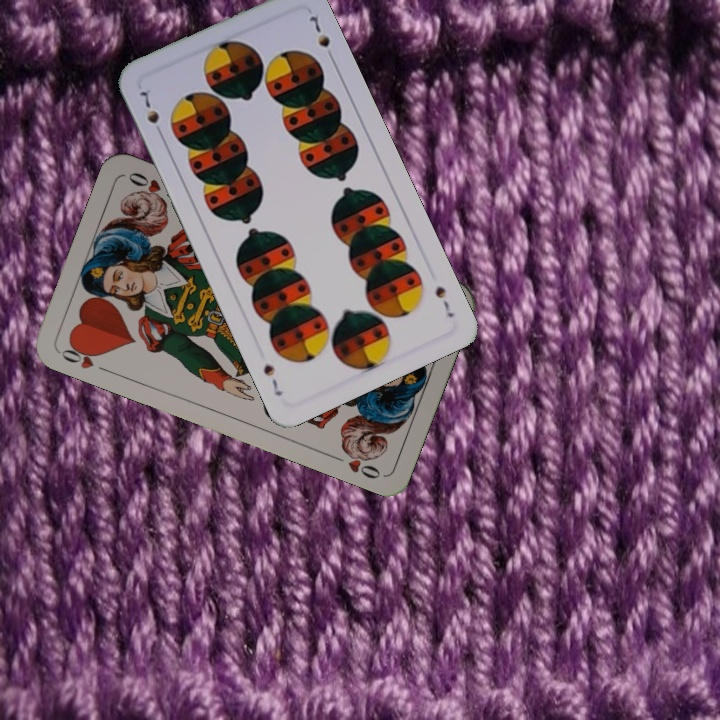HO: (56, 338, 113, 376)
S7: (135, 84, 166, 140), (431, 282, 457, 321)
